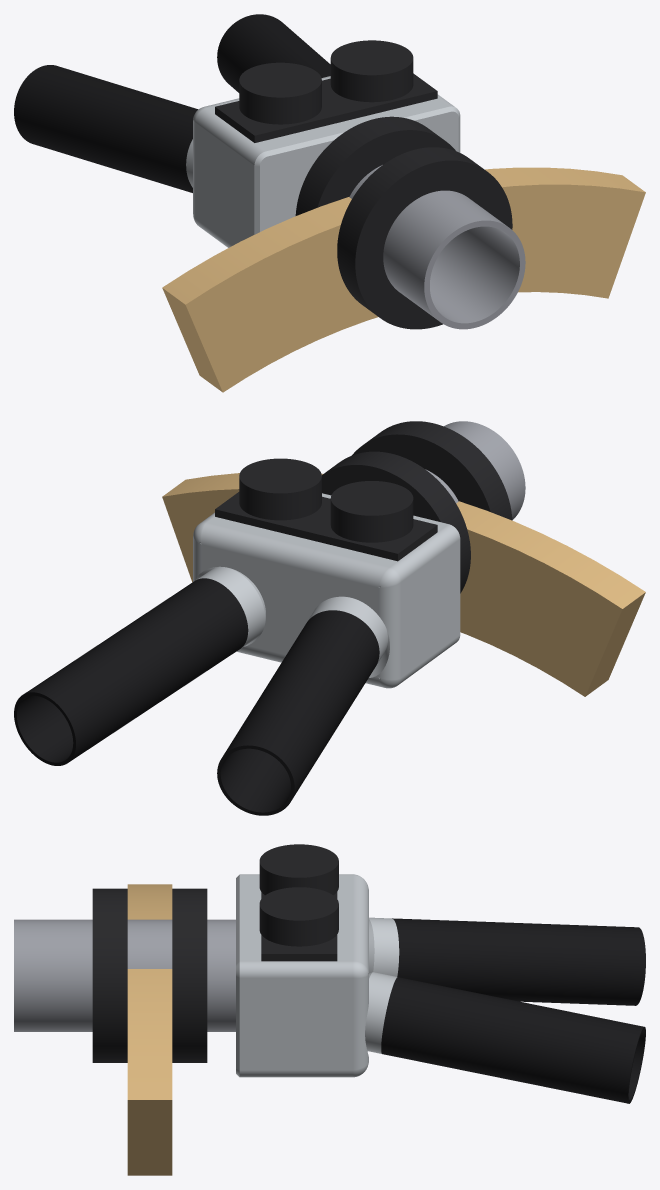
The model's file is socket_detail.glb.
3 views of the same model, one above another, from view 1: azimuth 30°, elevation 25°; view 2: azimuth 150°, elevation 25°; view 3: azimuth 270°, elevation 25° (orthographic). The views are drawn at different scales.
Parts seen in each view (by area): view 1: box_ring, stub_collars, socket_block, stub, pole_-1, gib_clamps, pole_1; view 2: box_ring, socket_block, pole_1, pole_-1, gib_clamps, stub_collars, stub, plug_1, plug_-1; view 3: pole_1, socket_block, pole_-1, stub, stub_collars, box_ring, gib_clamps, plug_-1, plug_1.
Part boxes in pixels (x1,y1,x2,y2): box_ring: (162,167,645,392); stub_collars: (295,116,512,329); socket_block: (193,76,460,247); stub: (349,165,525,329); pole_-1: (14,65,198,192); gib_clamps: (215,40,437,142); pole_1: (217,14,330,92); box_ring: (162,473,645,696); socket_block: (193,493,460,688); pole_1: (14,578,248,765); pole_-1: (217,610,379,815); gib_clamps: (215,458,437,561); stub_collars: (322,421,512,593); stub: (425,421,525,519); plug_1: (197,567,265,647); plug_-1: (307,596,387,663); pole_1: (381,977,645,1103); socket_block: (236,874,368,1077); pole_-1: (392,918,645,1005); stub: (14,919,235,1031); stub_collars: (92,888,207,1062); box_ring: (127,884,172,1175); gib_clamps: (259,844,338,961); plug_-1: (369,917,399,976); plug_1: (365,972,397,1053).
Bounding box in the file's own units: 205 × 89.67 × 253.
